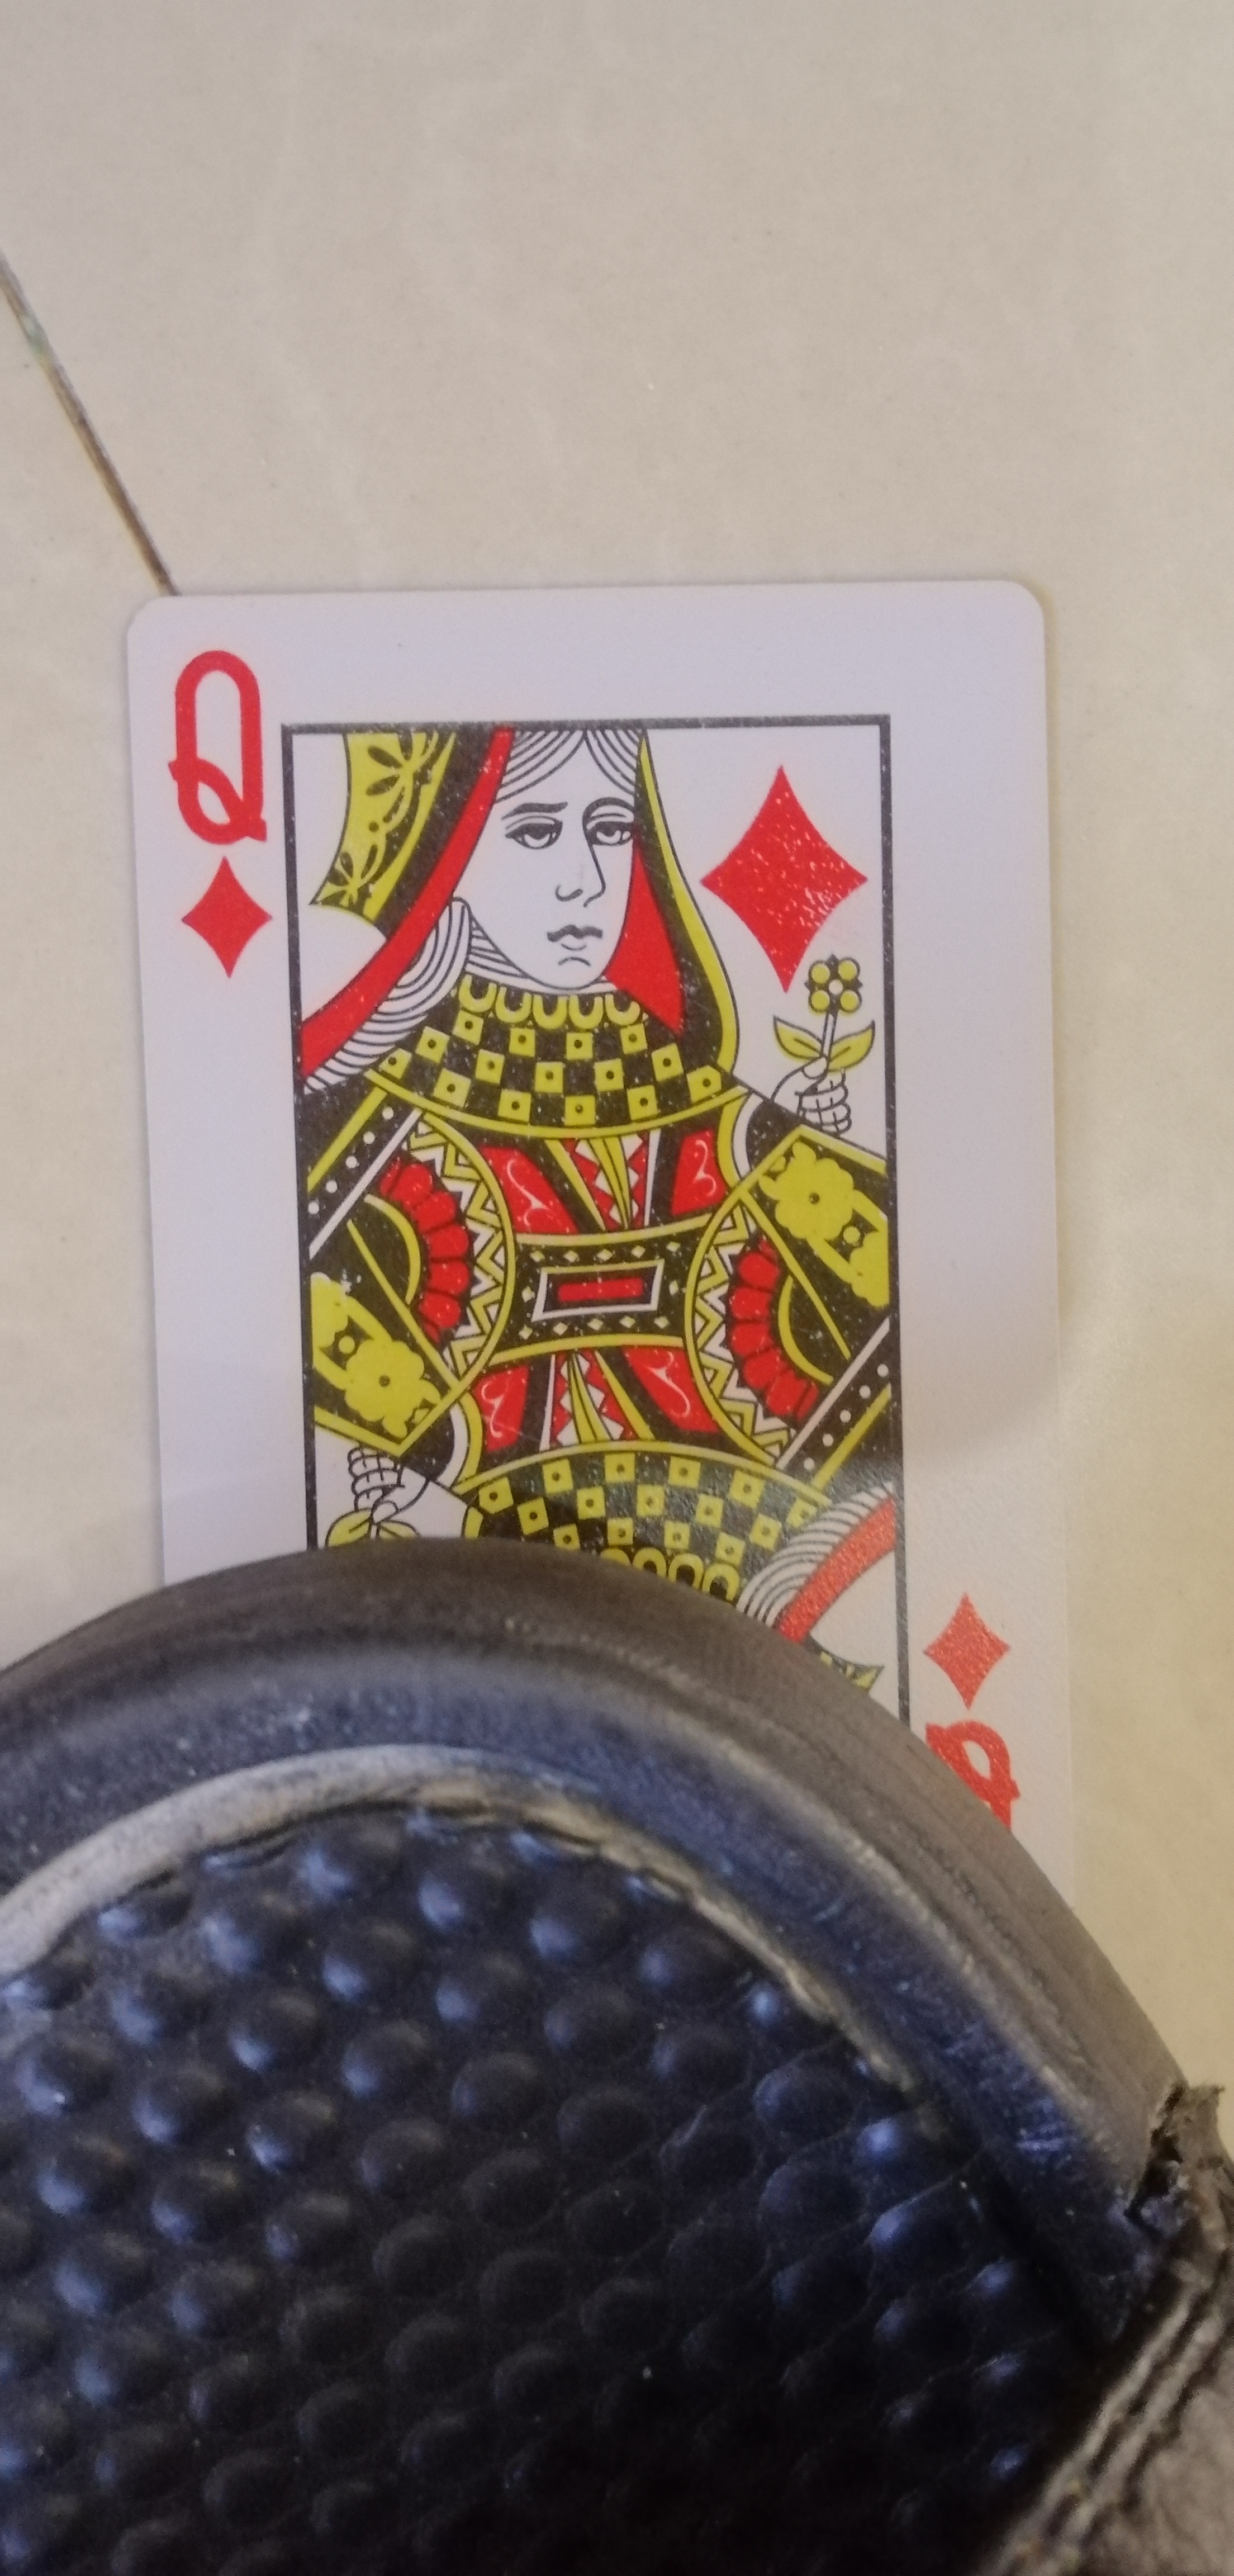queen: (94, 572, 1144, 1930)
